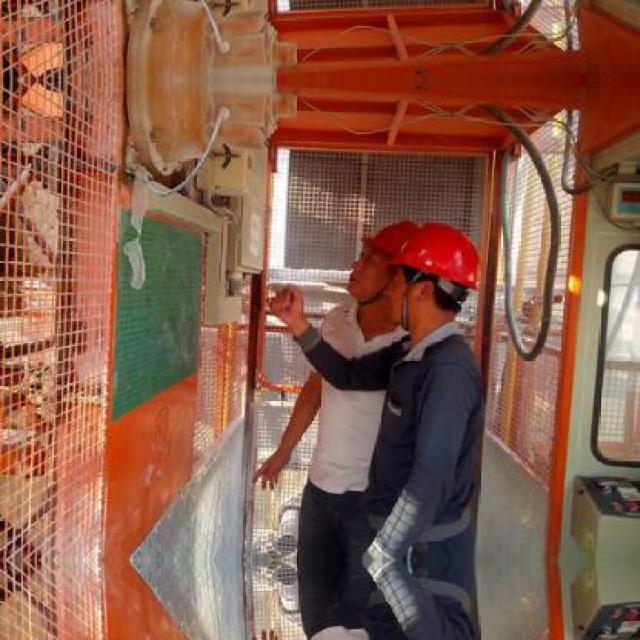helmet: (385, 222, 477, 326), (344, 218, 424, 314)
